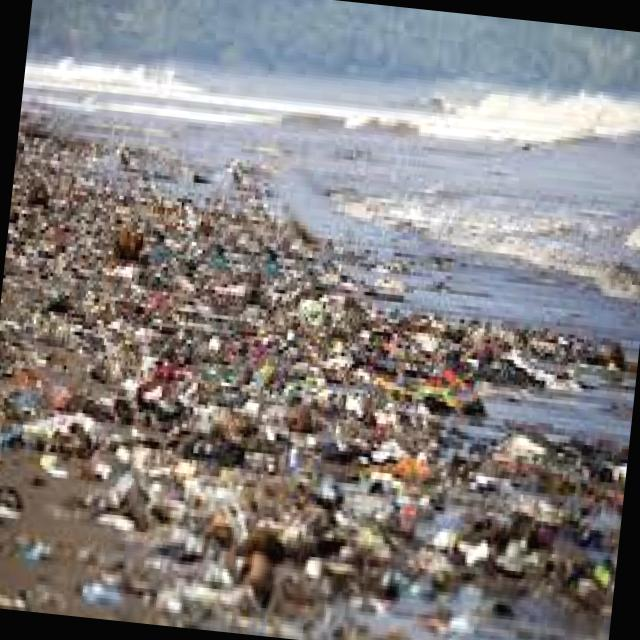garbage: (0, 255, 638, 640)
